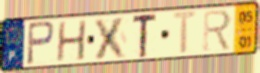H: (55, 19, 88, 64)
P: (25, 20, 57, 67)
R: (202, 9, 234, 53)
T: (171, 9, 200, 57), (131, 12, 159, 60)
X: (92, 15, 129, 61)
